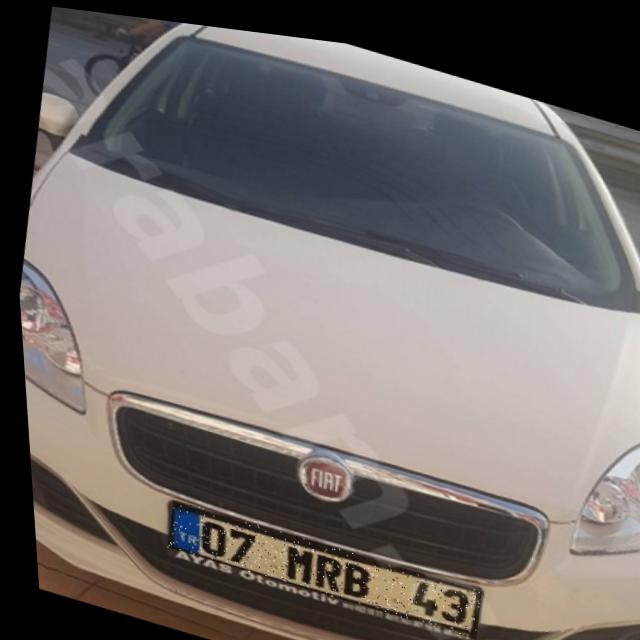license_plate: (157, 495, 476, 629)
